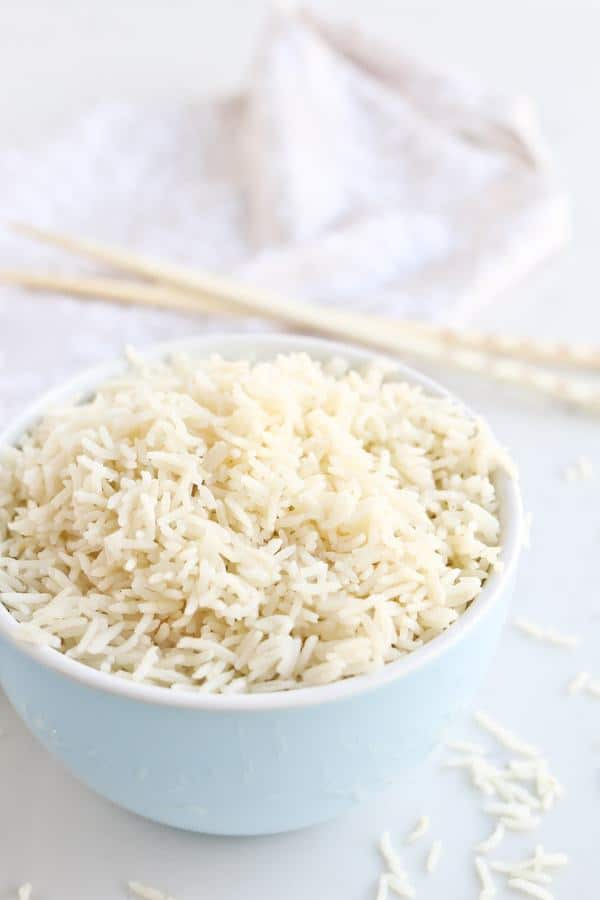rice: (18, 333, 452, 690)
